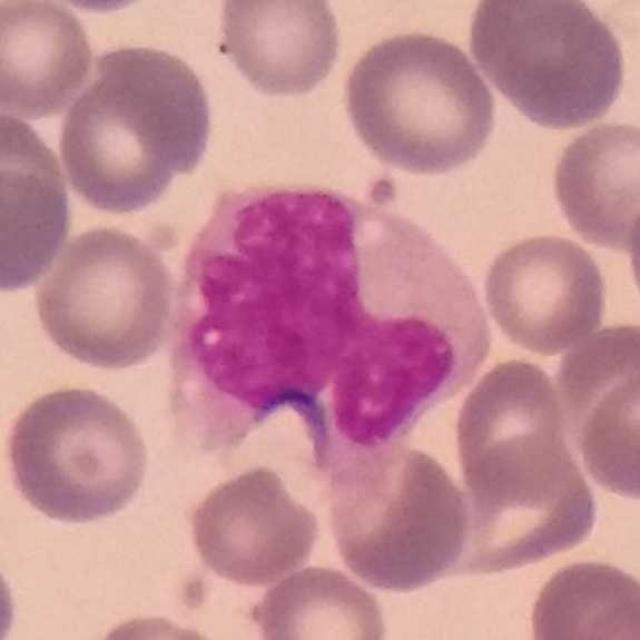mono: (168, 182, 498, 478)
